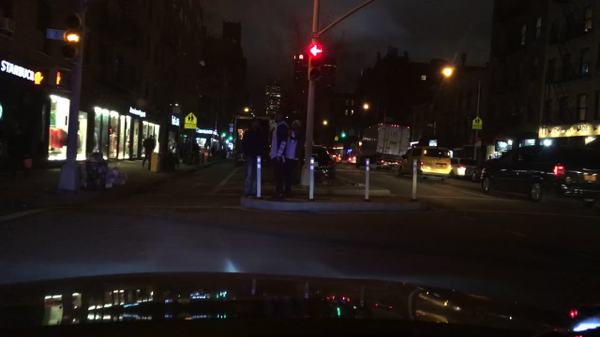car: (480, 145, 599, 208), (397, 147, 452, 182), (307, 146, 335, 186), (448, 157, 479, 180), (470, 159, 498, 184), (330, 154, 342, 164), (346, 155, 356, 165)
person: (241, 117, 264, 199), (269, 110, 290, 199), (6, 125, 33, 179), (286, 119, 303, 199), (141, 134, 154, 172), (180, 140, 189, 153), (193, 142, 199, 154)
traffic light: (62, 13, 81, 60), (307, 44, 322, 81), (34, 68, 48, 88), (54, 69, 68, 88)
traffic sign: (184, 113, 198, 125), (472, 117, 484, 125), (183, 125, 198, 129), (471, 125, 483, 130), (335, 136, 339, 141)
truck: (355, 123, 411, 171), (234, 115, 271, 167)
